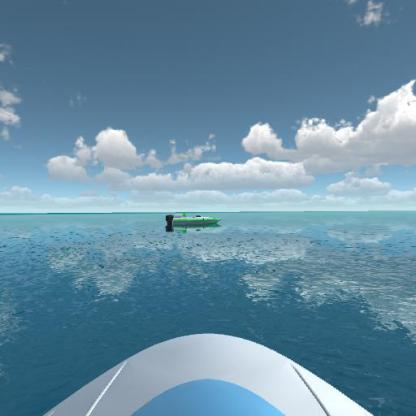usv0: (159, 208, 224, 236)
